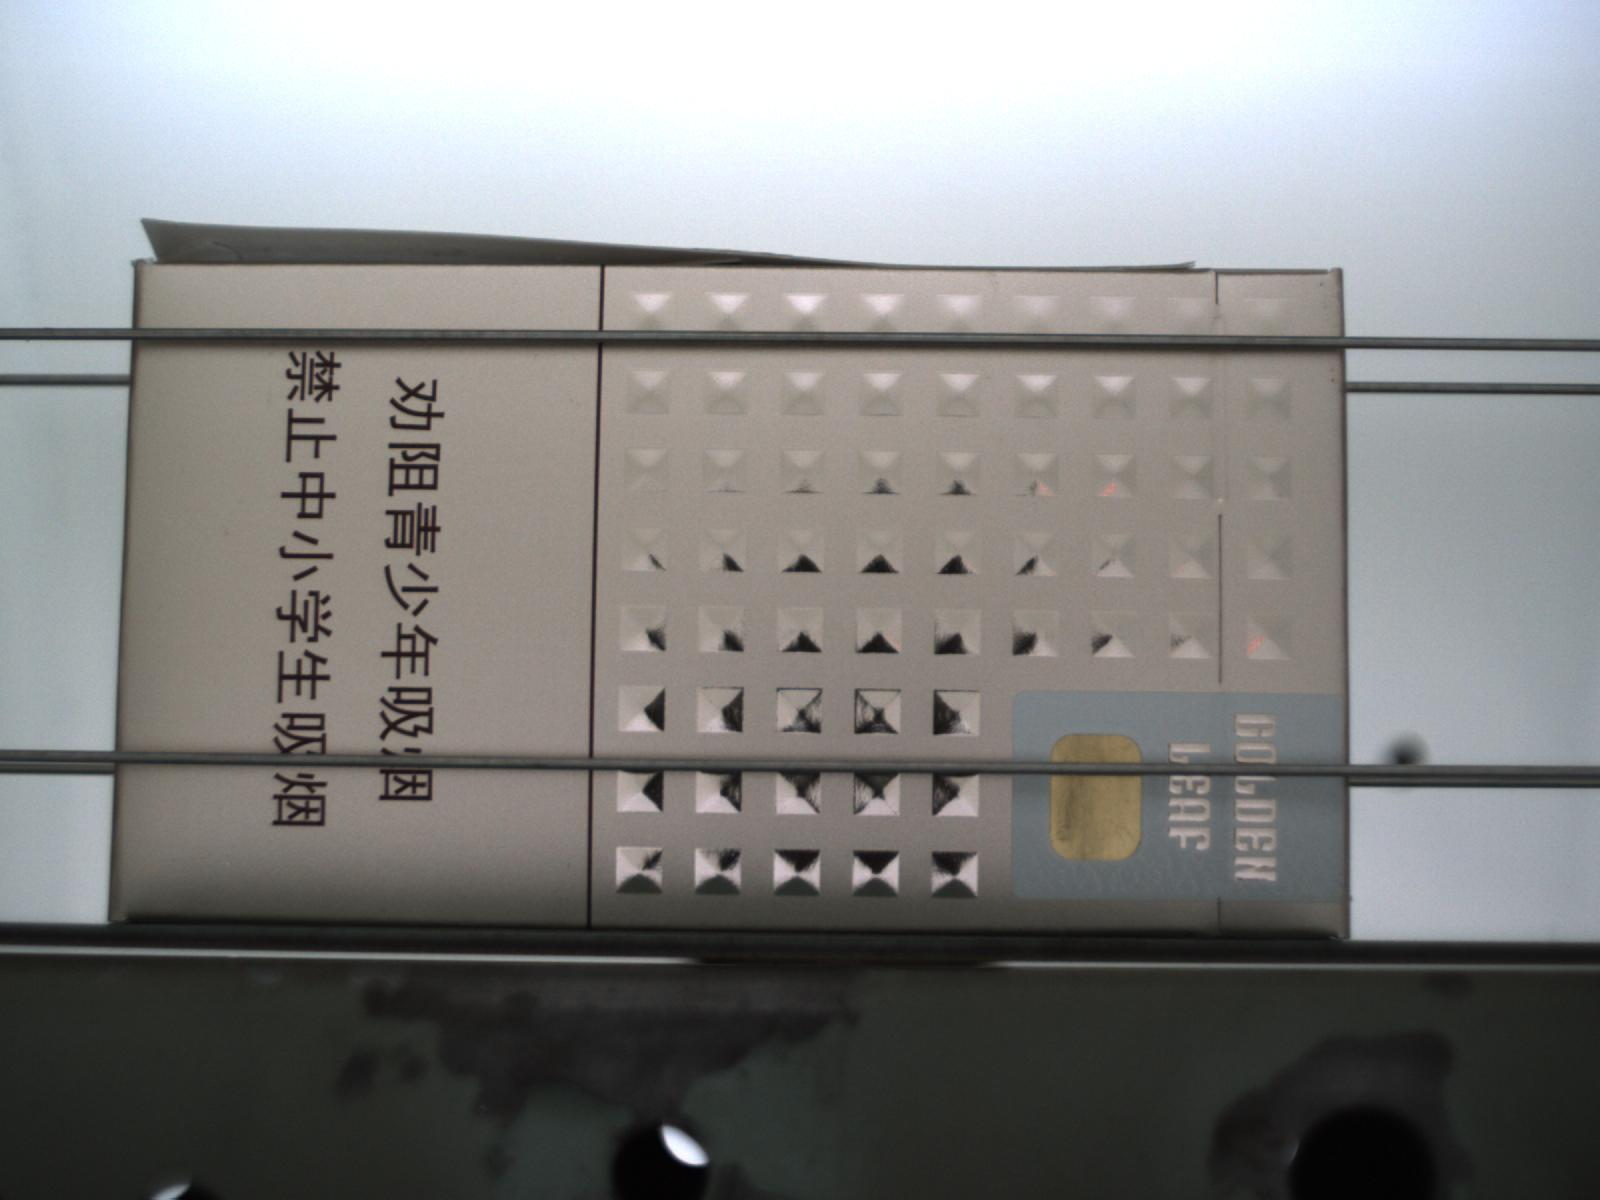dirtySpot: (220, 526, 232, 538), (1318, 277, 1328, 289)
outerFold_upper_01: (137, 219, 881, 271)
